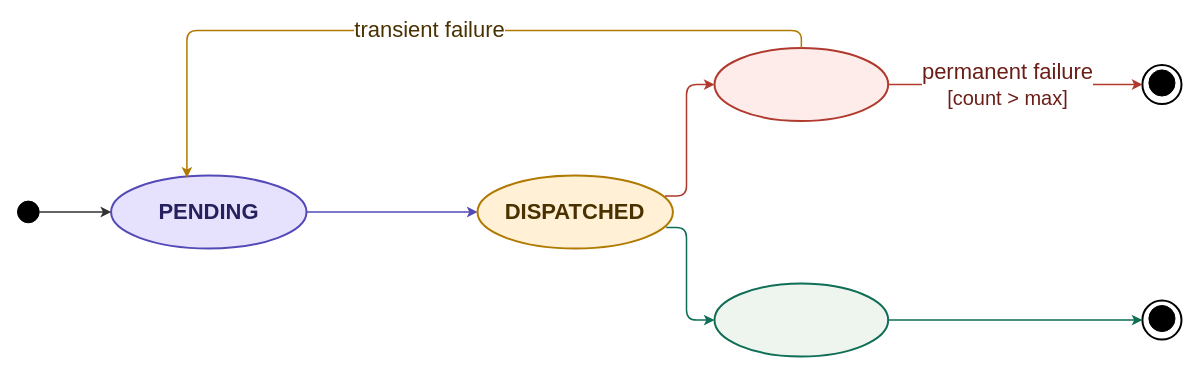
Image size: 1200x374. Some labels were removed from this diagram. Each missing label, with the centre of its shape:
"FAILED" goes at [801,84].
"SUCCESS" goes at [801,319].
